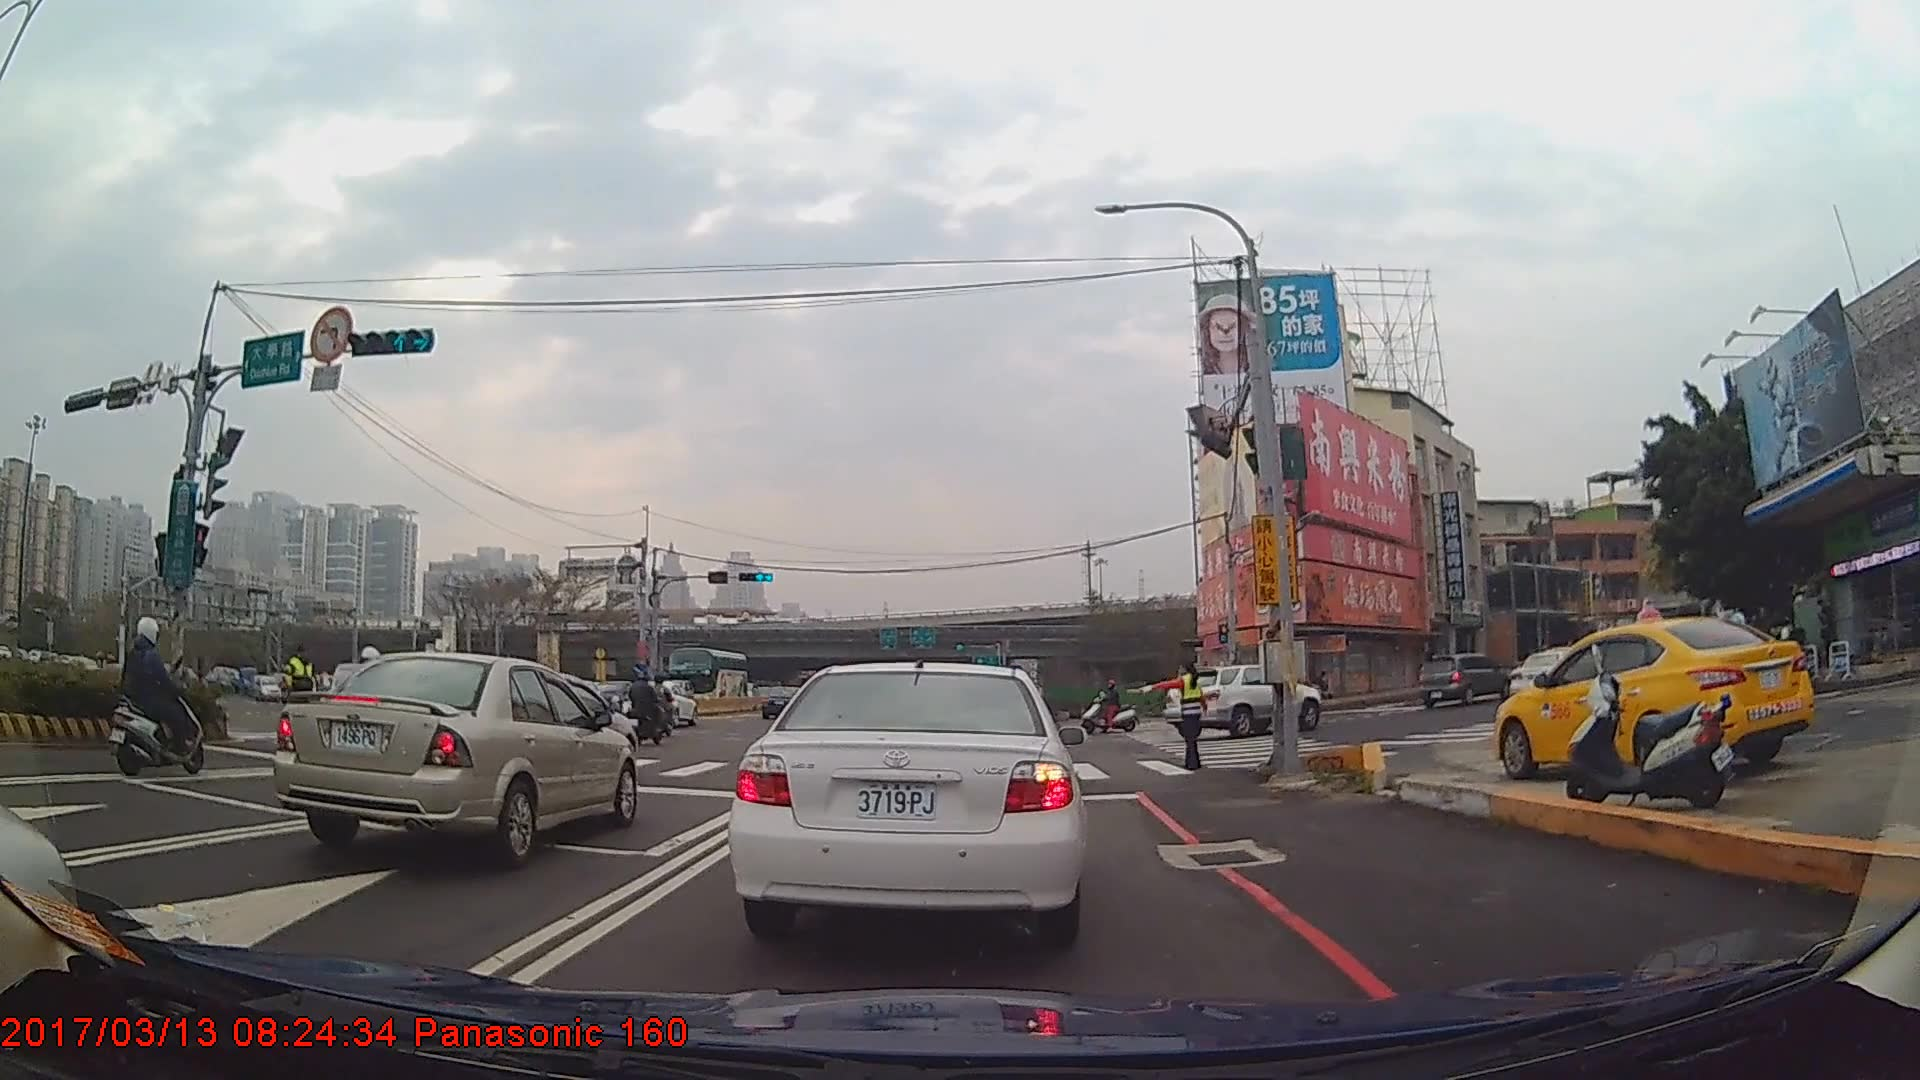pedestrian: (1129, 658, 1208, 774), (280, 646, 323, 743)
rider: (111, 614, 207, 774), (1082, 680, 1140, 734), (624, 671, 663, 740), (647, 676, 673, 738)
vehicle: (724, 654, 1088, 941), (270, 649, 637, 867), (1492, 611, 1812, 784), (1167, 664, 1320, 736), (1414, 651, 1510, 710), (1506, 646, 1588, 708), (666, 645, 748, 703), (621, 677, 696, 731), (758, 683, 804, 717)
